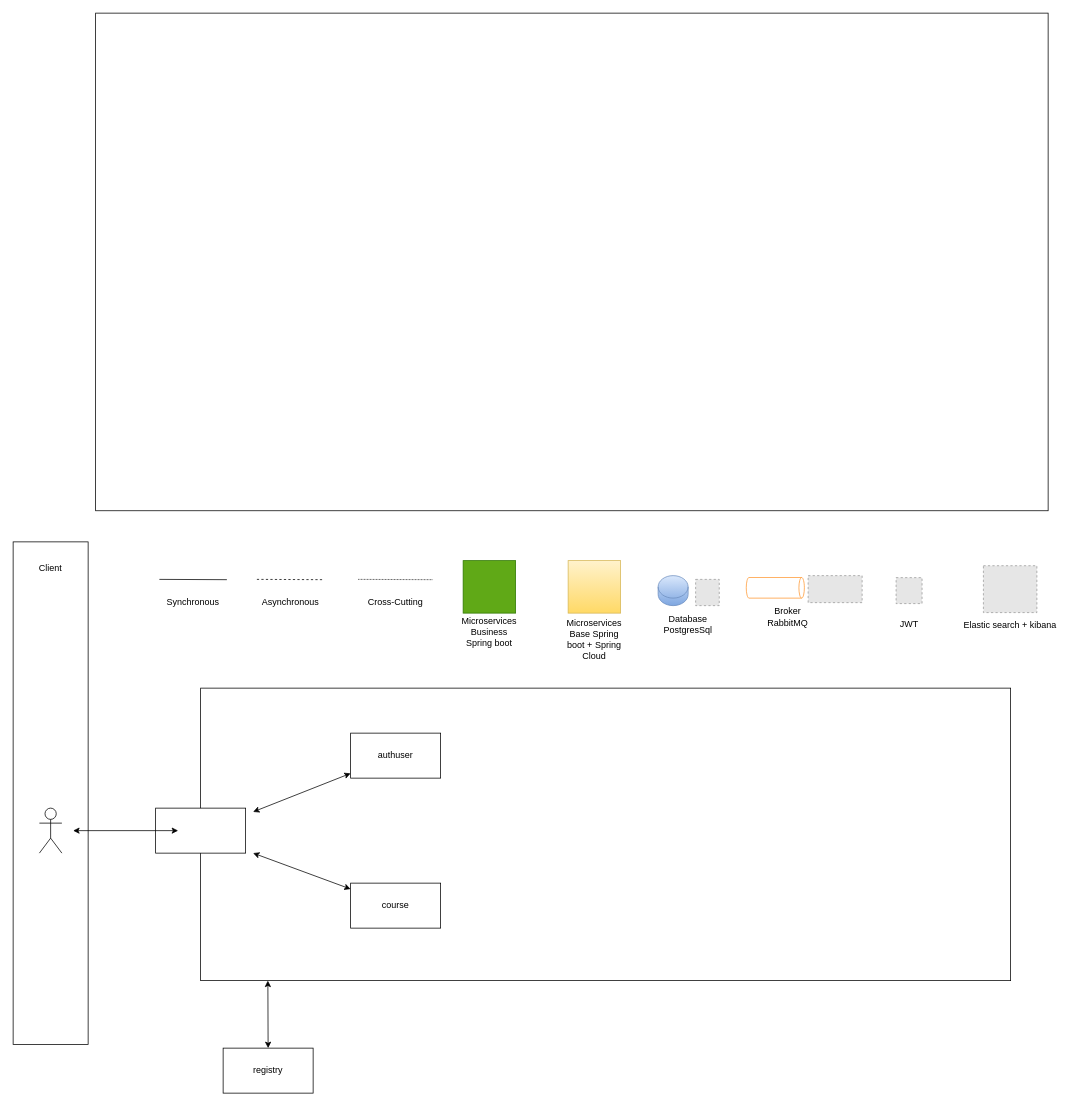
Image size: 1076x1106. Some labels were removed from this diagram. Grey dashed boxes stand in for pictures. The box of each missing label's shape, as (x1, y1, x2, y2) in pixels:
Actor: (39, 807, 62, 853)
gateway: (155, 807, 246, 853)
